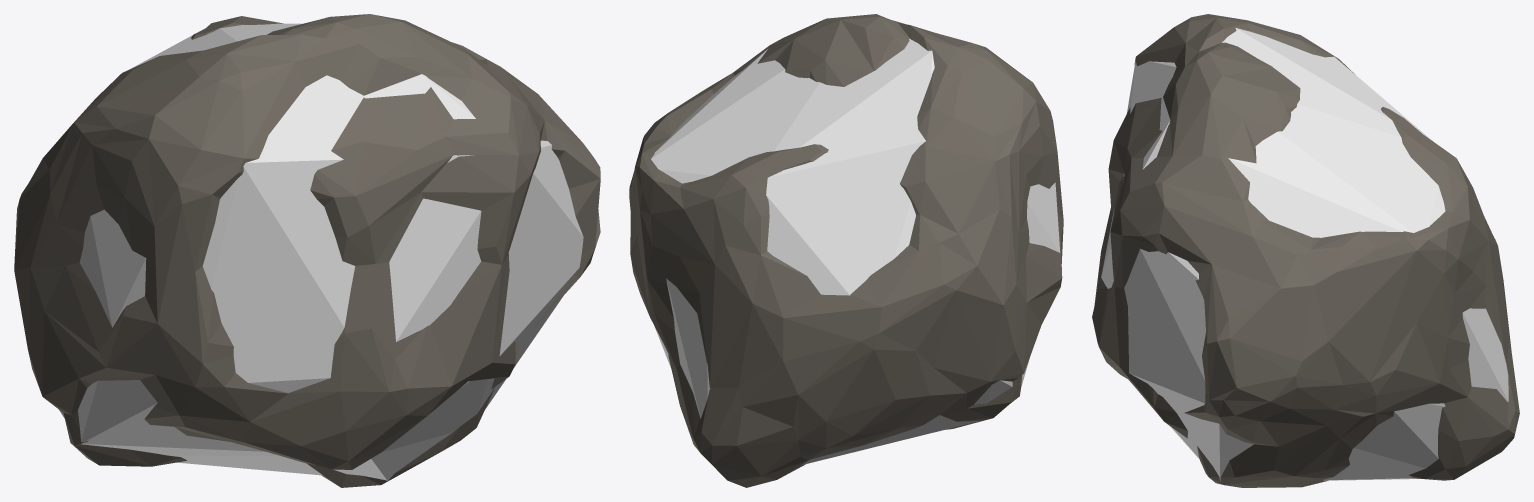
The model's file is SM_Env_Asteroid_05.fbx.
3 views of the same model, side by side, from view 1: azimuth 30°, elevation 25°; view 2: azimuth 150°, elevation 25°; view 3: azimuth 270°, elevation 25° (orthographic). The views are drawn at different scales.
Visible parts, largest first — view 1: SM_Env_Asteroid_05_LOD0, SM_Env_Asteroid_05_ConvexHulls; view 2: SM_Env_Asteroid_05_LOD0, SM_Env_Asteroid_05_ConvexHulls; view 3: SM_Env_Asteroid_05_LOD0, SM_Env_Asteroid_05_ConvexHulls.
Boxes of the visible parts, box(x1,y1,x2,y2) form: SM_Env_Asteroid_05_LOD0: box(14, 14, 600, 487); SM_Env_Asteroid_05_ConvexHulls: box(59, 23, 583, 480); SM_Env_Asteroid_05_LOD0: box(629, 14, 1063, 487); SM_Env_Asteroid_05_ConvexHulls: box(651, 38, 1060, 465); SM_Env_Asteroid_05_LOD0: box(1092, 14, 1519, 487); SM_Env_Asteroid_05_ConvexHulls: box(1101, 28, 1508, 481).
Size of the model in its own units: 656 by 769 by 699.
Materials: 1 (1 with a texture image).
